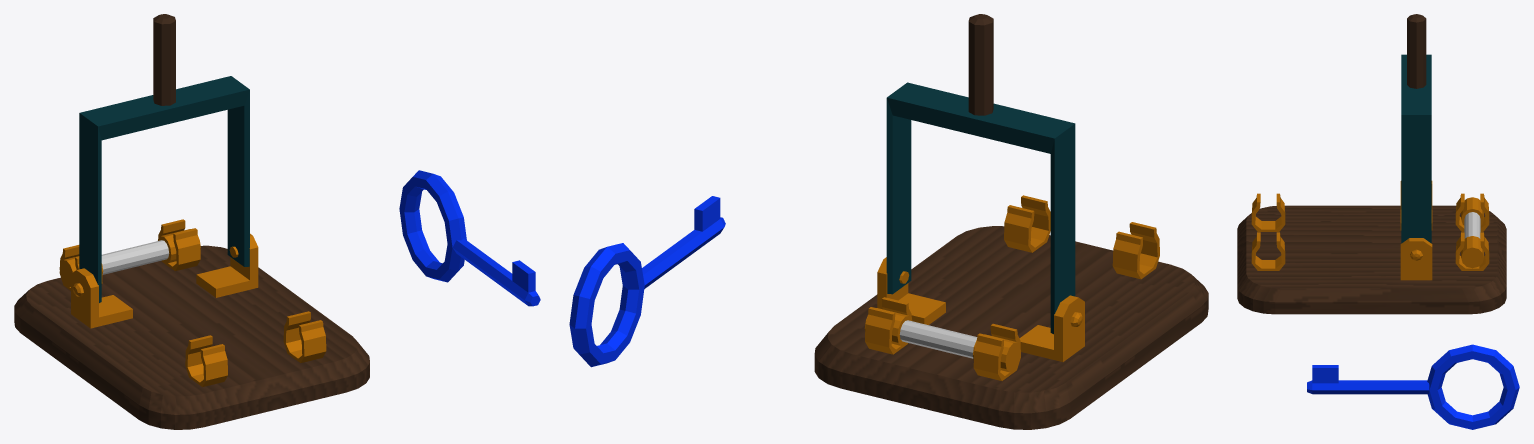
Rendered from ElSchd.fbx.
3 renders of one model, left to right at view 1: azimuth 30°, elevation 25°; view 2: azimuth 150°, elevation 25°; view 3: azimuth 270°, elevation 25°, orthographic. The views are drawn at different scales.
Parts seen in each view (by area): view 1: ElSchd, Cranc, Key, Predohranitel; view 2: ElSchd, Cranc, Key, Predohranitel; view 3: ElSchd, Cranc, Key, Predohranitel.
Boxes of the visible parts, <box> form: ElSchd: <box>14,219,369,429</box>; Cranc: <box>79,14,249,302</box>; Key: <box>399,170,540,306</box>; Predohranitel: <box>59,229,200,286</box>; ElSchd: <box>814,195,1208,429</box>; Cranc: <box>886,14,1075,334</box>; Key: <box>569,196,725,367</box>; Predohranitel: <box>864,308,1020,372</box>; ElSchd: <box>1237,181,1506,314</box>; Cranc: <box>1401,14,1431,243</box>; Key: <box>1307,344,1519,429</box>; Predohranitel: <box>1461,197,1483,268</box>.
Size of the model in its own units: 294 by 241 by 210.
